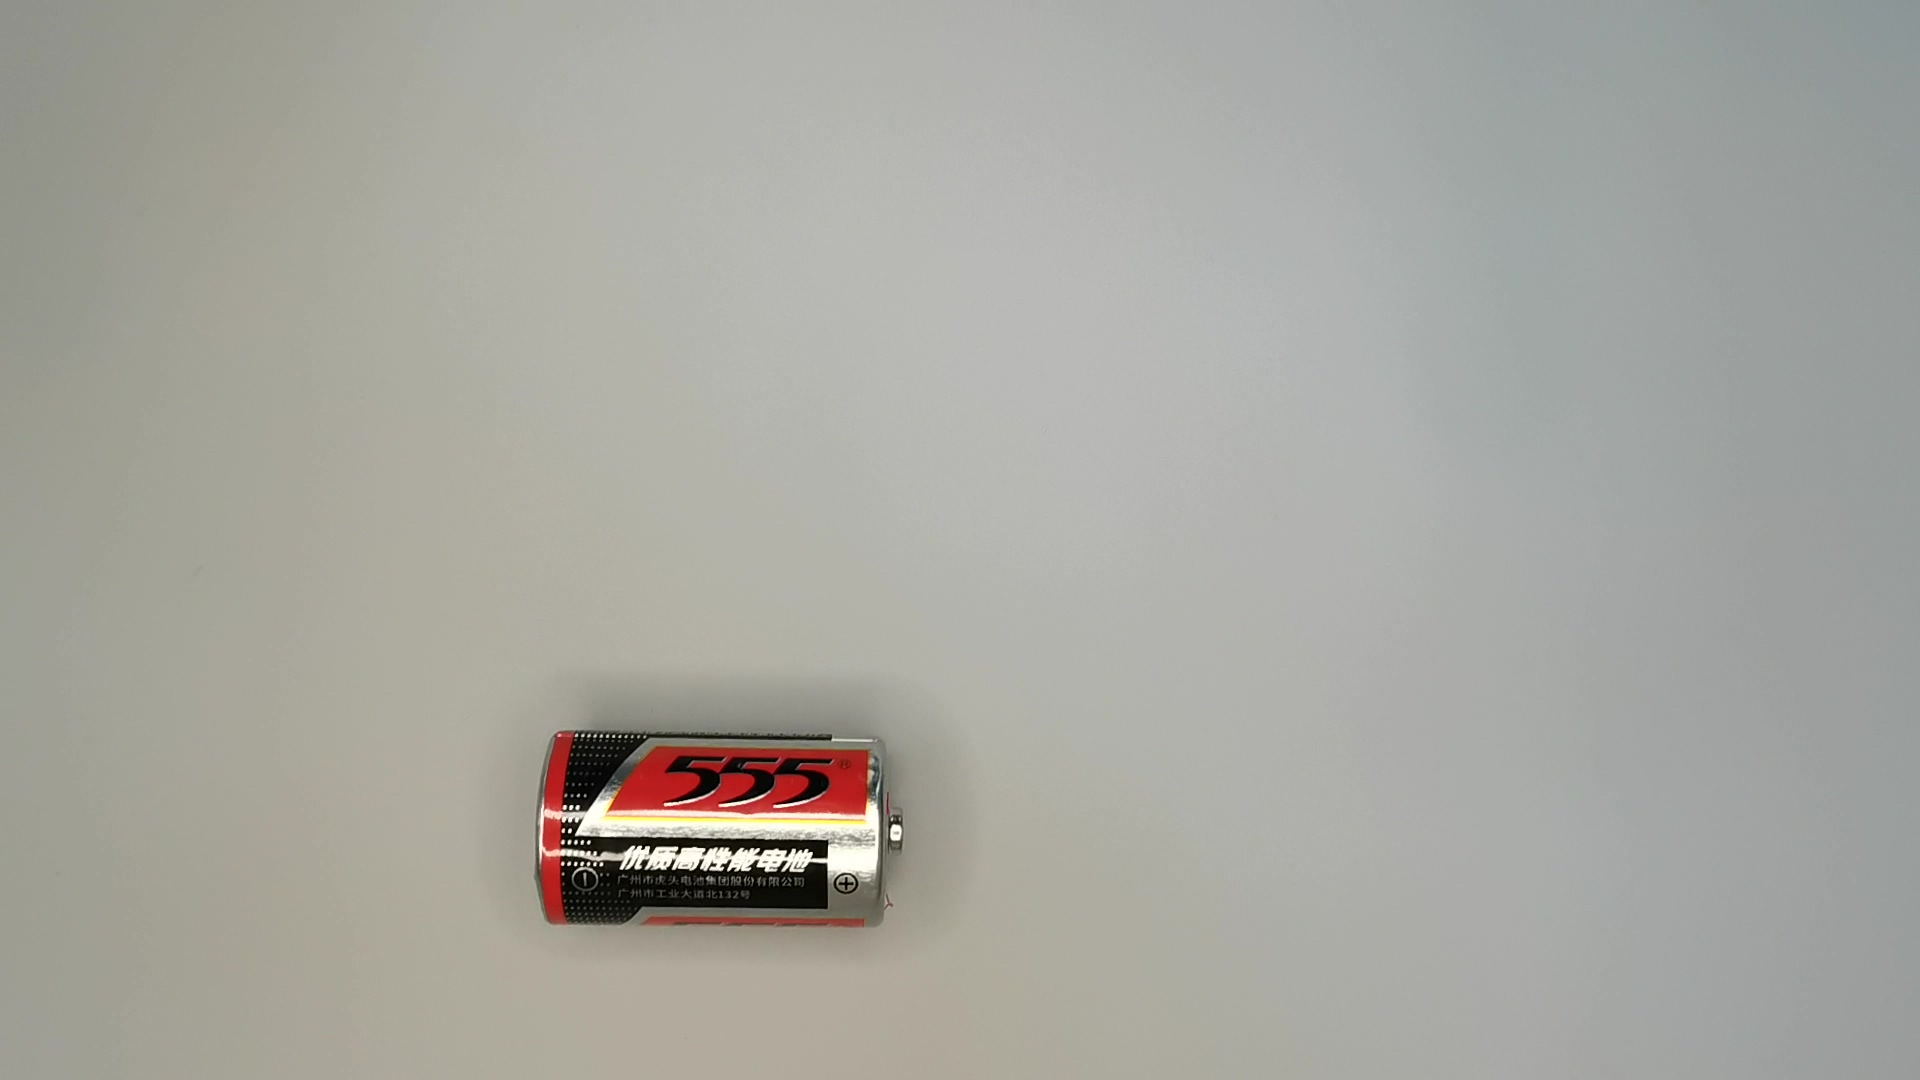battery: (531, 720, 909, 943)
